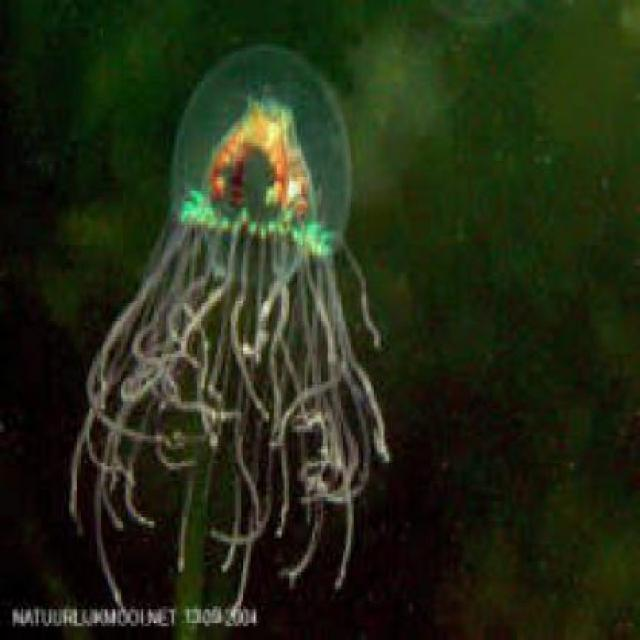Jellyfish: (59, 31, 394, 610)
